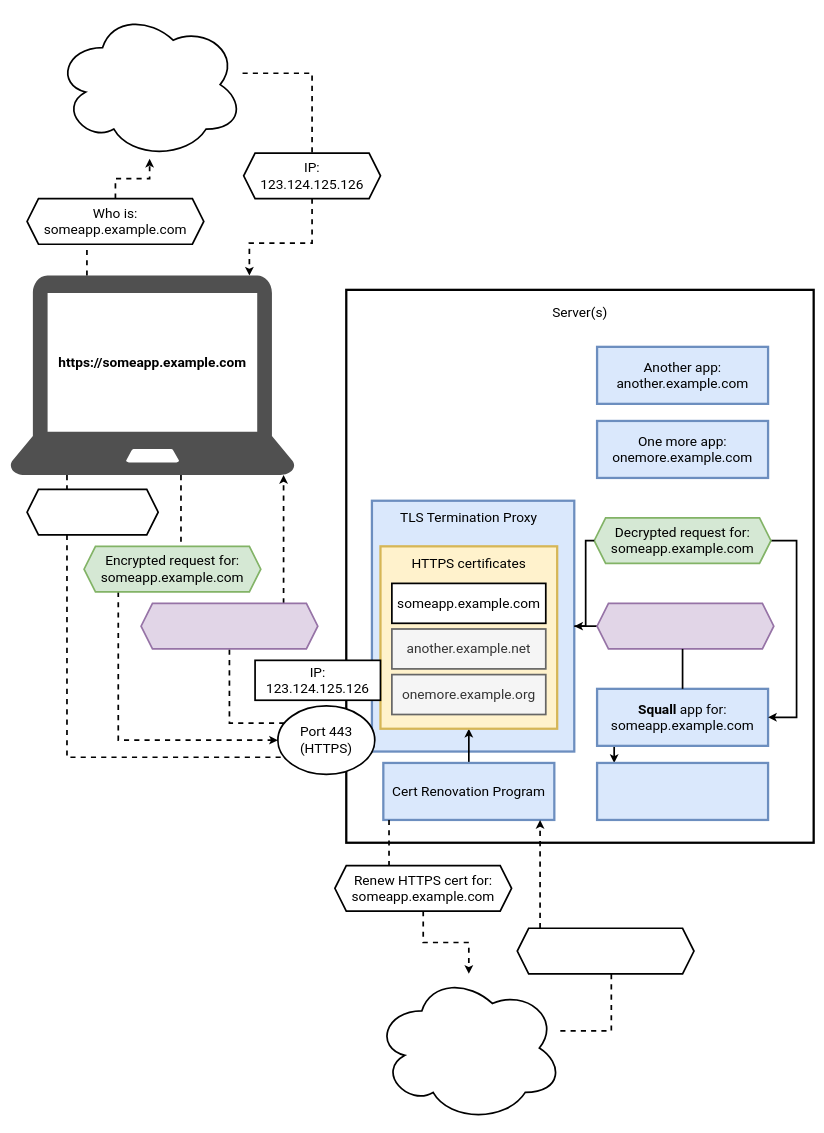
Image size: 824x1133. Some labels were removed from this diagram. The centre of each missing label's shape, as x and y in pixels:
"A Database" belongs at pixel 682 791.
"DNS Servers" belongs at pixel 149 84.
"Encrypted response from: someapp.example.com" belongs at pixel 229 626.
"Let's Encrypt" belongs at pixel 468 1048.
"New HTTPS cert for: someapp.example.com" belongs at pixel 605 950.
"Plain response from: someapp.example.com" belongs at pixel 685 626.
"TLS Handshake" belongs at pixel 92 512.
